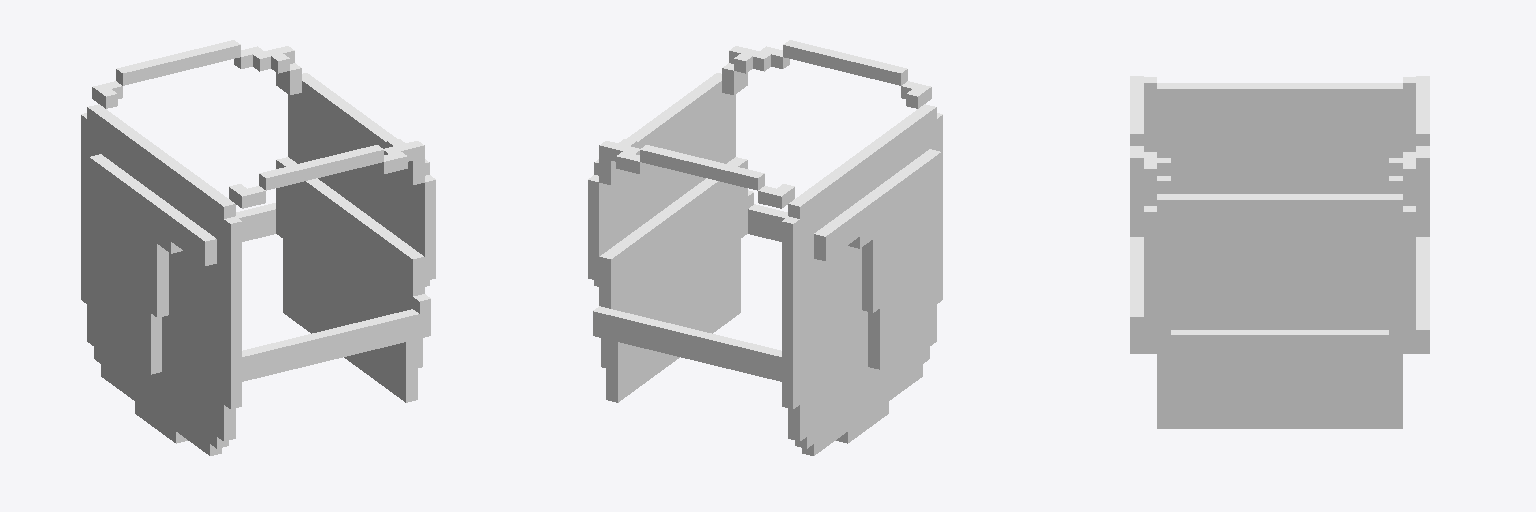
Rendered from chestplate.obj.
3 views of the same model, side by side, from view 1: azimuth 30°, elevation 25°; view 2: azimuth 150°, elevation 25°; view 3: azimuth 270°, elevation 25° (orthographic).
Parts seen in each view (by area): view 1: object 1; view 2: object 1; view 3: object 1.
Boxes of the visible parts, <box> form: object 1: <box>81,40,435,455</box>; object 1: <box>588,40,942,455</box>; object 1: <box>1130,76,1429,428</box>.
Size of the model in its own units: 1.9 by 2.4 by 2.2.